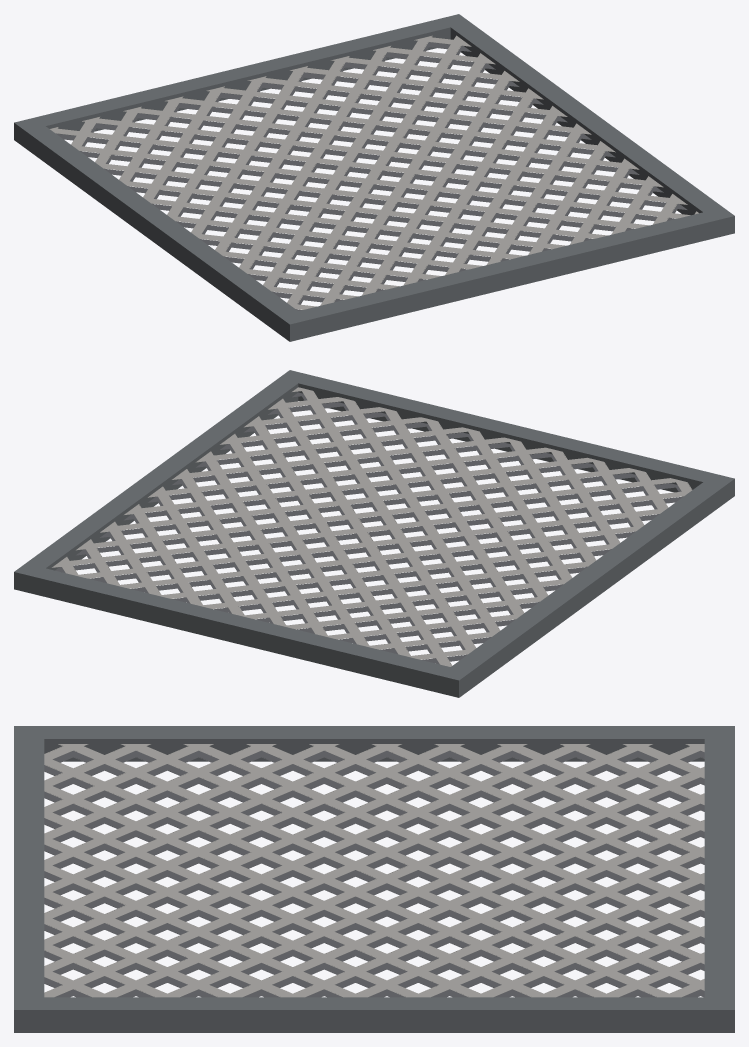
The model's file is LightGreyMetalFloorLargeLatticePlatform1.fbx.
3 renders of one model, top to bottom at view 1: azimuth 30°, elevation 25°; view 2: azimuth 150°, elevation 25°; view 3: azimuth 270°, elevation 25°, orthographic. The views are drawn at different scales.
Visible parts, largest first — view 1: Top, LightGreyMetalFloorLargeLatticePlatform1, Bottom; view 2: Top, LightGreyMetalFloorLargeLatticePlatform1, Bottom; view 3: Top, LightGreyMetalFloorLargeLatticePlatform1, Bottom.
Part boxes in pixels (x1,y1,x2,y2): Top: (50,35,698,309); LightGreyMetalFloorLargeLatticePlatform1: (14,14,734,341); Bottom: (56,42,687,310); Top: (52,387,692,666); LightGreyMetalFloorLargeLatticePlatform1: (14,370,734,697); Bottom: (55,392,683,664); Top: (44,744,704,997); LightGreyMetalFloorLargeLatticePlatform1: (14,726,734,1032); Bottom: (44,750,704,997).
Size of the model in its own units: 731 by 27.41 by 785.
Materials: 3 (2 with a texture image).
